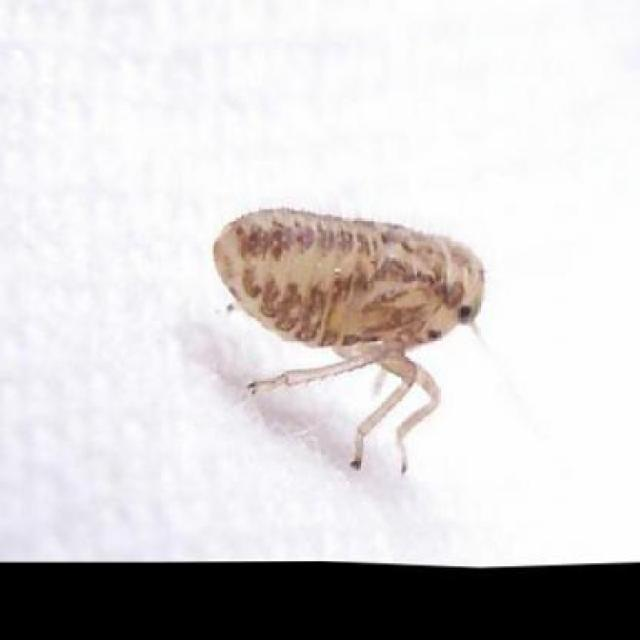brown-planthopper: (210, 201, 484, 390)
